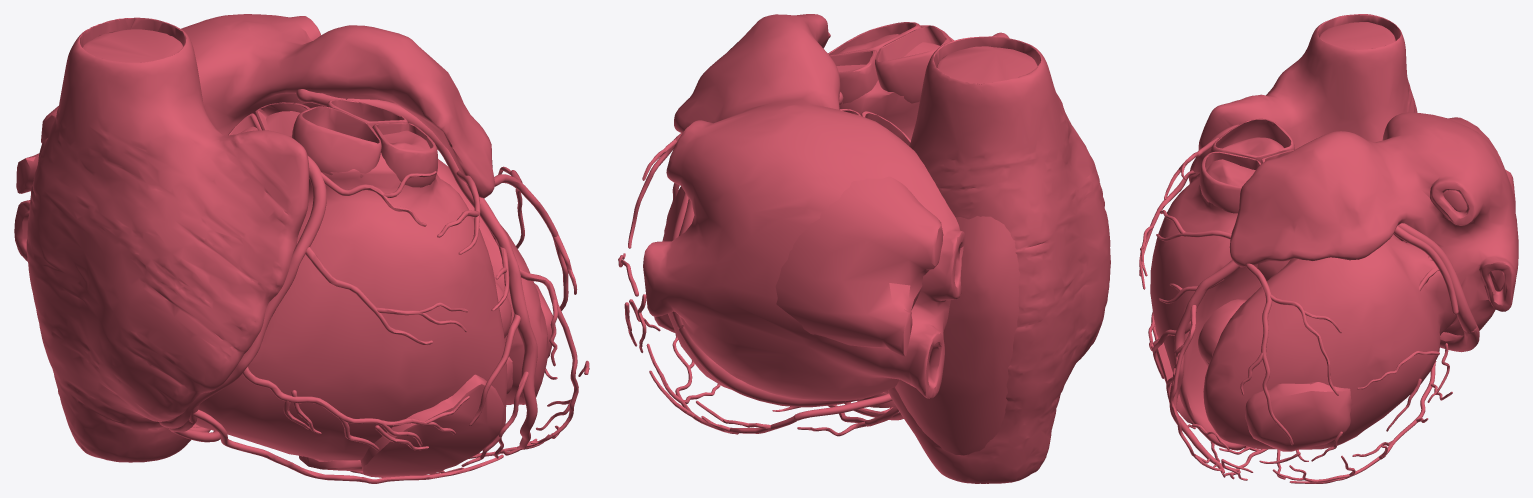
File: heart-bodyparts.glb
The picture shows the model from 3 angles, left to right: view 1: azimuth 30°, elevation 25°; view 2: azimuth 150°, elevation 25°; view 3: azimuth 270°, elevation 25°; orthographic projection. The views are drawn at different scales.
Parts seen in each view (by area): view 1: FJ2439, FJ2423, FJ2438, FJ2419, FJ2434, FJ2422, FJ2631, FJ2723, FJ2424, FJ2417, FJ2727, FJ2672 (+10 smaller); view 2: FJ2438, FJ2439, FJ2425, FJ2424, FJ2434, FJ2423, FJ2655, FJ2427, FJ2417, FJ2422, FJ2723, FJ2714 (+1 smaller); view 3: FJ2438, FJ2422, FJ2439, FJ2423, FJ2429, FJ2631, FJ2417, FJ2434, FJ2424, FJ2418, FJ2656, FJ2642 (+8 smaller).
Boxes of the visible parts, x1,y1,x2,y2 form: FJ2439: (26, 17, 309, 462); FJ2423: (195, 130, 507, 460); FJ2438: (14, 14, 494, 261); FJ2419: (360, 374, 504, 477); FJ2434: (292, 106, 381, 177); FJ2422: (240, 111, 548, 404); FJ2631: (346, 98, 537, 449); FJ2723: (159, 156, 326, 432); FJ2424: (82, 29, 182, 62); FJ2417: (372, 122, 437, 187); FJ2727: (192, 409, 503, 483); FJ2672: (242, 366, 422, 446); FJ2438: (643, 14, 965, 401); FJ2439: (888, 32, 1110, 483); FJ2425: (775, 176, 943, 356); FJ2424: (895, 46, 1037, 455); FJ2434: (875, 25, 951, 103); FJ2423: (836, 34, 939, 393); FJ2655: (678, 326, 860, 407); FJ2427: (830, 50, 878, 103); FJ2417: (828, 22, 921, 56); FJ2422: (663, 186, 730, 389); FJ2723: (794, 393, 892, 420); FJ2714: (675, 367, 796, 433); FJ2438: (1229, 112, 1518, 335); FJ2422: (1203, 234, 1457, 449); FJ2439: (1188, 14, 1417, 180); FJ2423: (1150, 137, 1283, 450); FJ2429: (1245, 382, 1352, 451); FJ2631: (1169, 260, 1239, 473); FJ2417: (1199, 151, 1260, 213); FJ2434: (1210, 118, 1294, 163); FJ2424: (1319, 22, 1395, 49); FJ2418: (1198, 299, 1246, 366); FJ2656: (1398, 223, 1476, 332); FJ2642: (1245, 263, 1293, 445).
Size of the model in its own units: 2 by 1.81 by 1.84.
